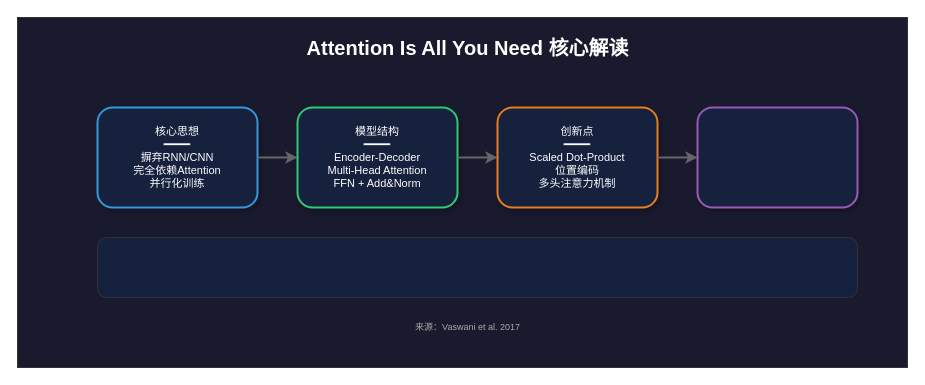
The diagram is 925 pixels wide and 385 high, and some of its shapes have lost their labels. The centre of each missing label's shape, as x and y in pixels:
"影响力 ━━━━ BERT/GPT基础 NLP范式革命 跨模态扩展" belongs at (778,158).
"核心贡献：提出了Transformer架构，完全基于注意力机制，抛弃了传统的循环和卷积结构，实现了更好的并行化和效果。" belongs at (477,267).
